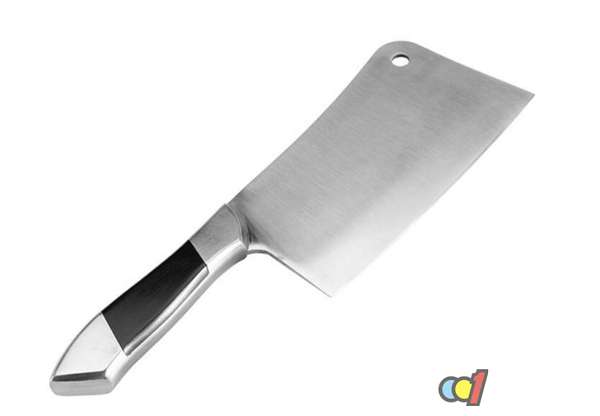knief: (67, 42, 530, 372)
